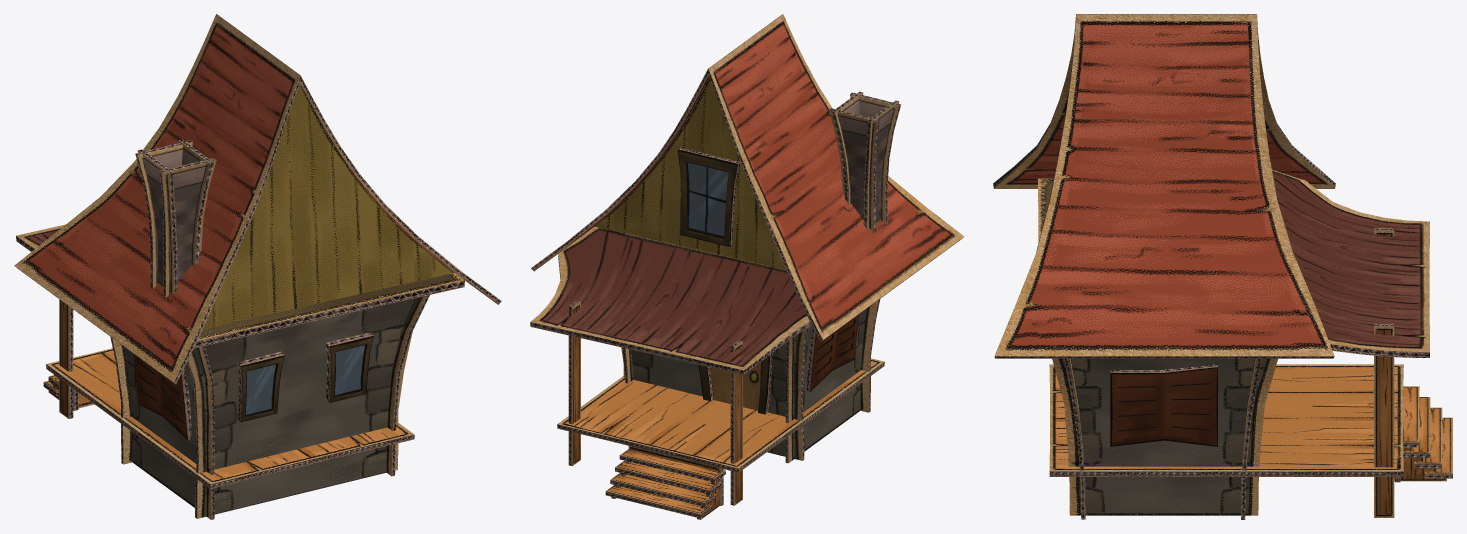
Rendered from House.fbx.
3 views of the same model, side by side, from view 1: azimuth 30°, elevation 25°; view 2: azimuth 150°, elevation 25°; view 3: azimuth 270°, elevation 25° (orthographic). The views are drawn at different scales.
Visible parts, largest first — view 1: Cube.012, Cube.010, Cube.016, Cube.020, Cube.025; view 2: Cube.010, Cube.016, Cube.012, Cube.025, Cube.020; view 3: Cube.010, Cube.016, Cube.012, Cube.025.
Boxes of the visible parts, box(x1,y1,x2,y2) form: Cube.012: box(110, 83, 464, 519); Cube.010: box(14, 14, 501, 384); Cube.016: box(43, 299, 414, 488); Cube.020: box(135, 139, 216, 298); Cube.025: box(133, 332, 373, 440); Cube.010: box(530, 14, 964, 374); Cube.016: box(557, 301, 884, 519); Cube.012: box(595, 78, 880, 463); Cube.025: box(677, 147, 858, 414); Cube.020: box(828, 91, 900, 233); Cube.010: box(993, 14, 1429, 358); Cube.016: box(1049, 228, 1452, 517); Cube.012: box(1038, 178, 1277, 519); Cube.025: box(1110, 364, 1217, 446).
Bounding box in the file's own units: 960 × 1180 × 1078.
